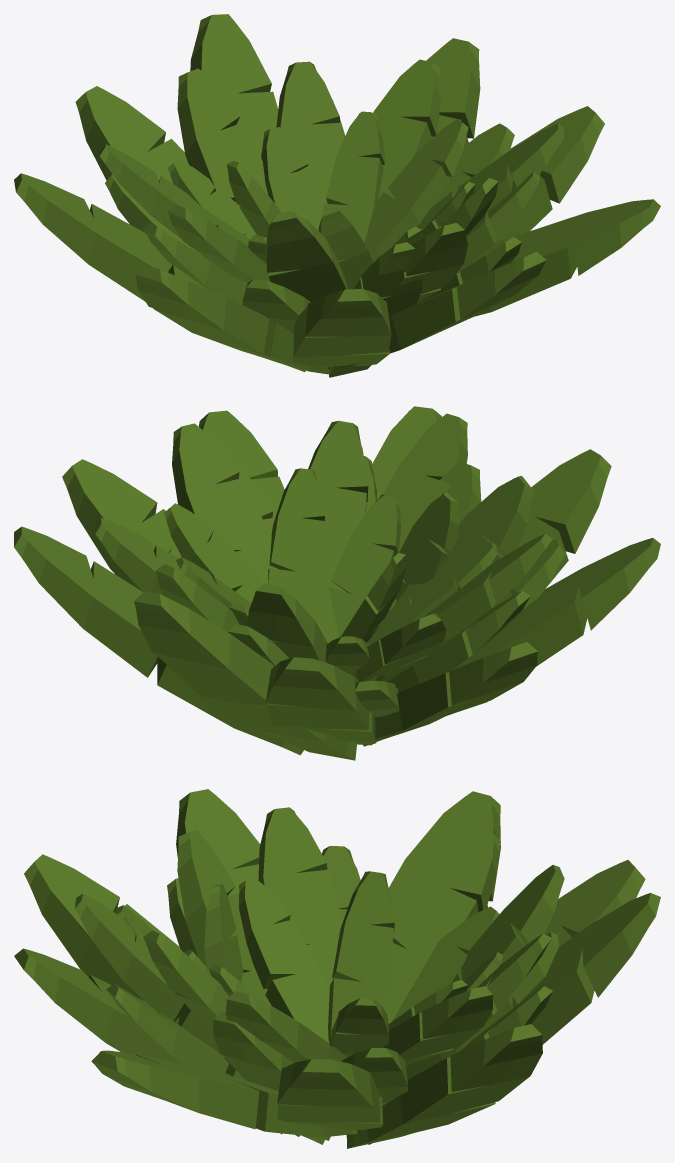
The model's file is bitki1.fbx.
3 renders of one model, top to bottom at view 1: azimuth 30°, elevation 25°; view 2: azimuth 150°, elevation 25°; view 3: azimuth 270°, elevation 25°, orthographic. The views are drawn at different scales.
Visible parts, largest first — view 1: bitki1; view 2: bitki1; view 3: bitki1.
Part boxes in pixels (<box>): bitki1: <box>14,14,660,377</box>; bitki1: <box>14,406,660,760</box>; bitki1: <box>14,789,660,1148</box>.
Size of the model in its own units: 123 by 53.39 by 122.
